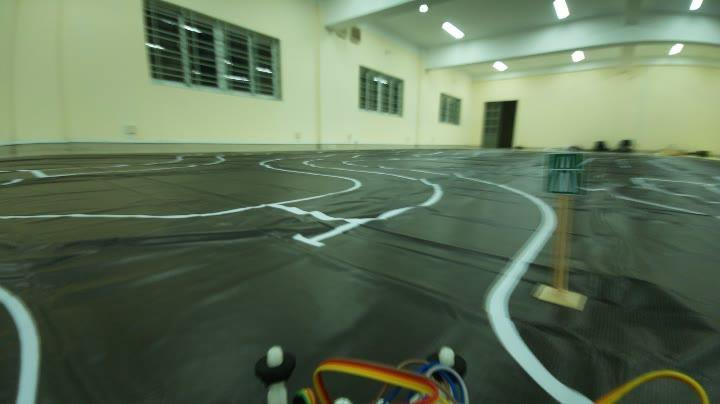highway_entry: (535, 142, 594, 204)
